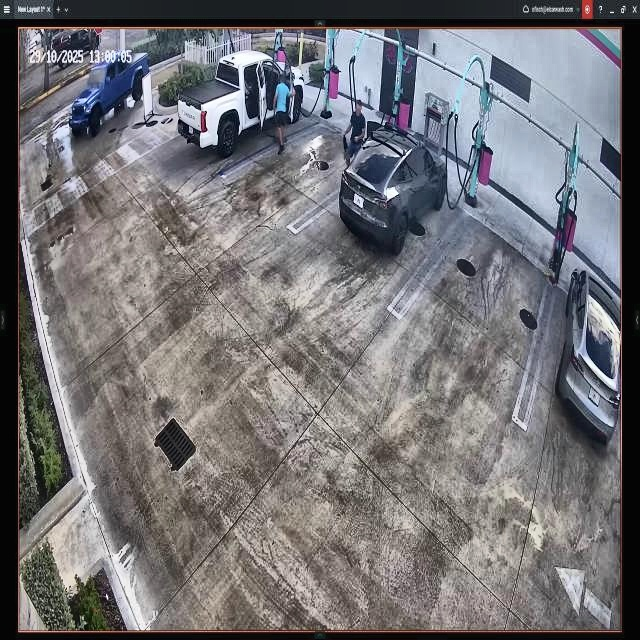Car: (338, 125, 446, 251), (177, 48, 303, 155)
